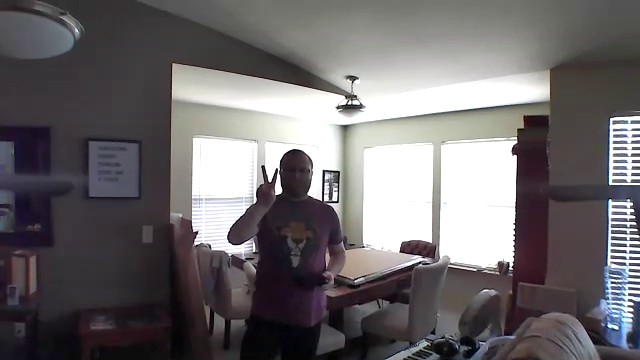peace: (252, 159, 282, 203)
